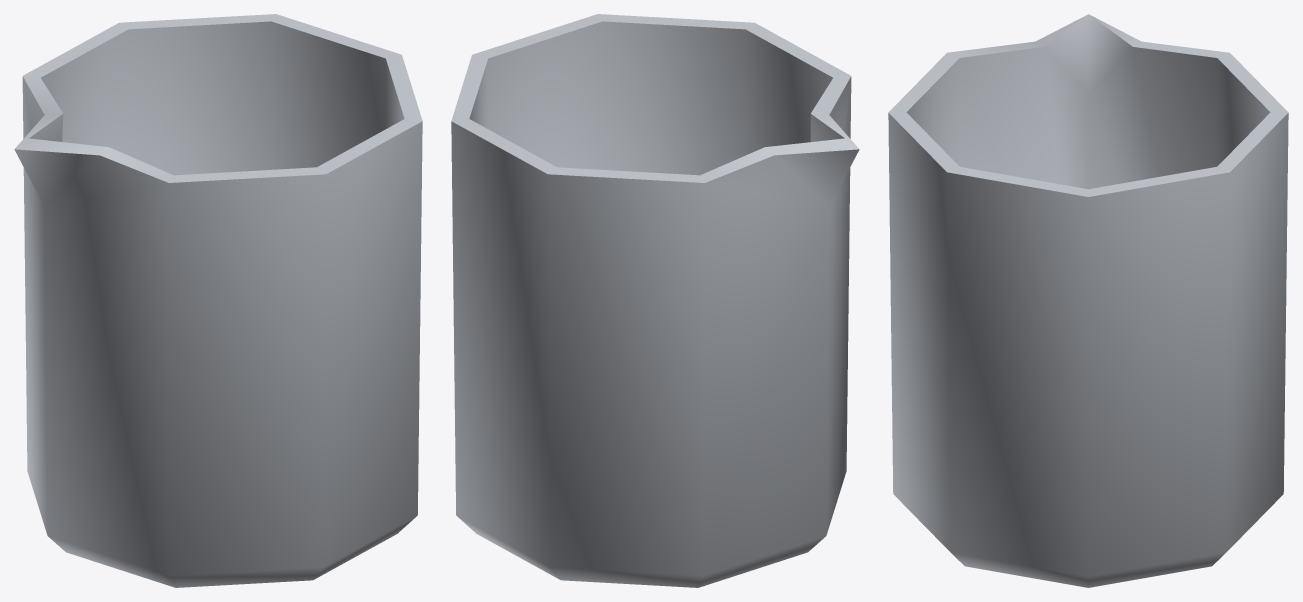
File: bottle_glassware_beaker_small.glb
3 views of the same model, side by side, from view 1: azimuth 30°, elevation 25°; view 2: azimuth 150°, elevation 25°; view 3: azimuth 270°, elevation 25° (orthographic). The views are drawn at different scales.
Visible parts, largest first — view 1: bottle_glassware_beaker_small; view 2: bottle_glassware_beaker_small; view 3: bottle_glassware_beaker_small.
Part boxes in pixels (x1,y1,x2,y2): bottle_glassware_beaker_small: (14, 14, 422, 587); bottle_glassware_beaker_small: (451, 14, 859, 587); bottle_glassware_beaker_small: (888, 14, 1288, 587).
Size of the model in its own units: 9.59 by 10 by 8.87.
1 material, 1 textured.
